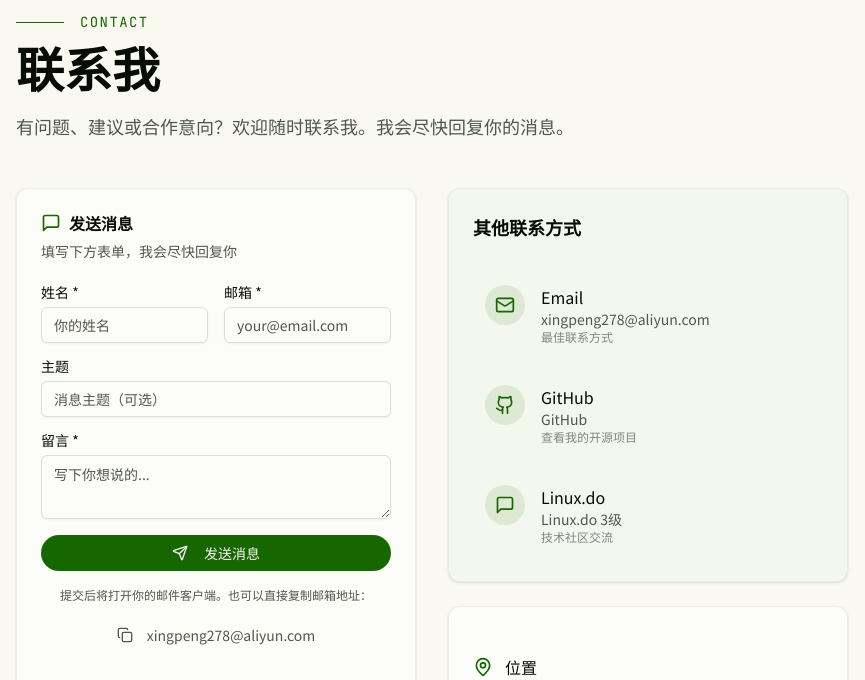
Test: F7: 关于我页面排版与联系我 Zod 表单输入验证 › Tier 2: 在表单提交过程中，提交按钮应当处于 disabled 状态以防重复点击
The image size is (865, 680).
Type "王五" into the field labelled "姓名 *".
click(124, 325); type("王五")  # box [41,307,208,343]
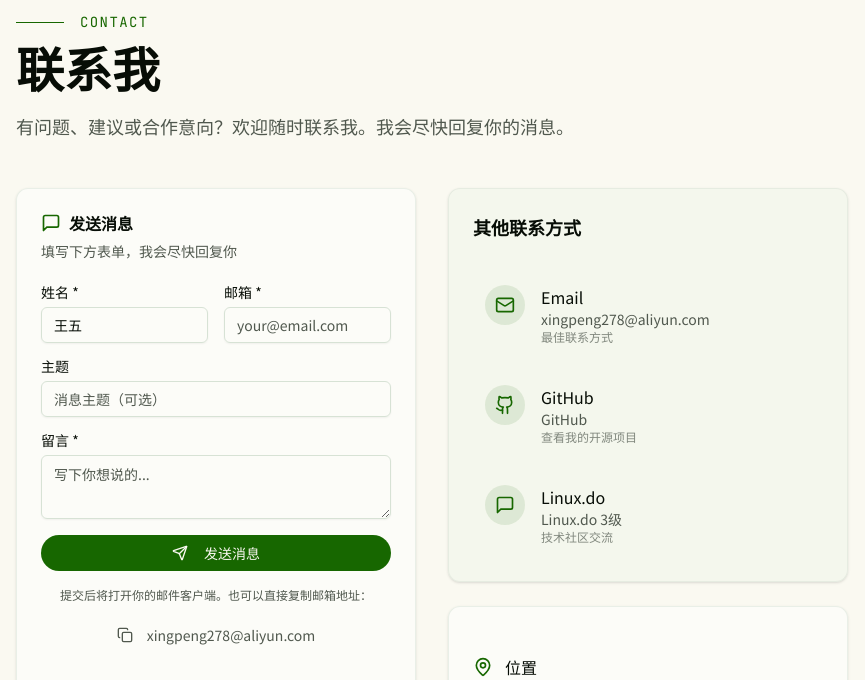
Type "wangwu@example.com" into the field labelled "邮箱 *".
click(308, 325); type("wangwu@example.com")  # box [224,307,391,343]
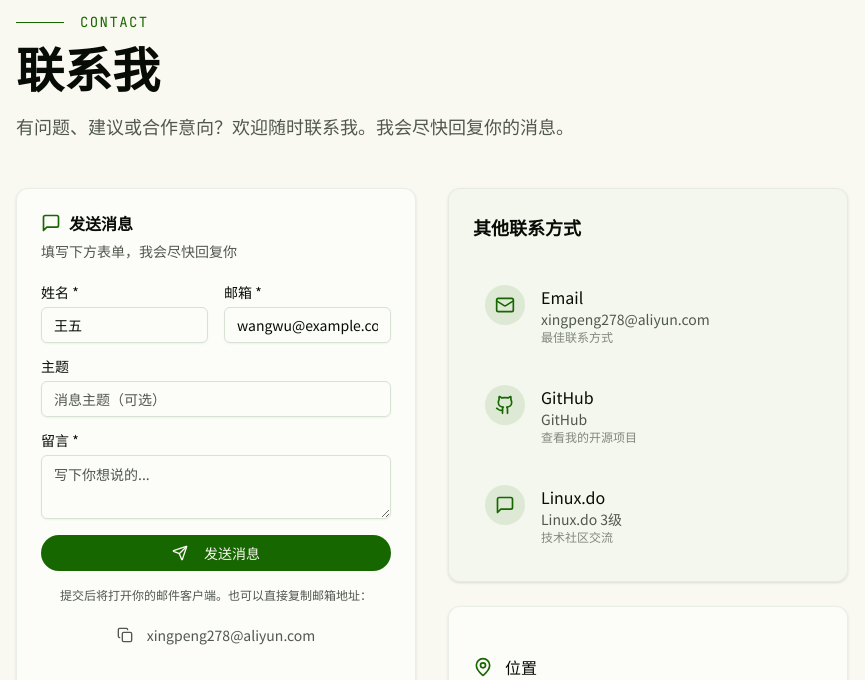
Type "正常的测试留言信息。" into the text box labelled "留言 *".
click(216, 487); type("正常的测试留言信息。")  # box [41,455,391,519]
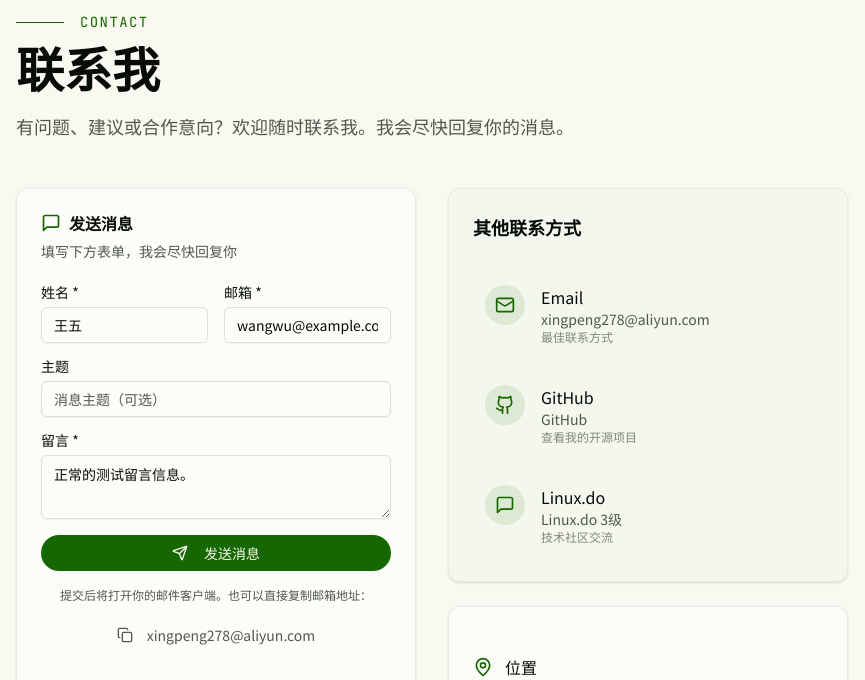
// 触发提交但不等待异步 resolve
Submit the form "发送消息", box [41,285,391,651]
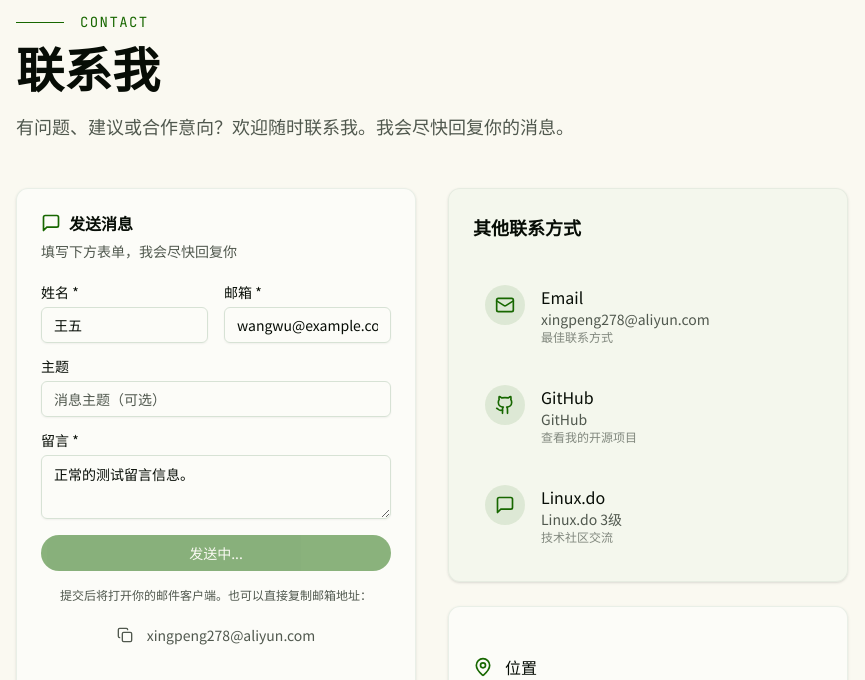
Expected: the button named "发送消息" is disabled, [41,535,391,571]
